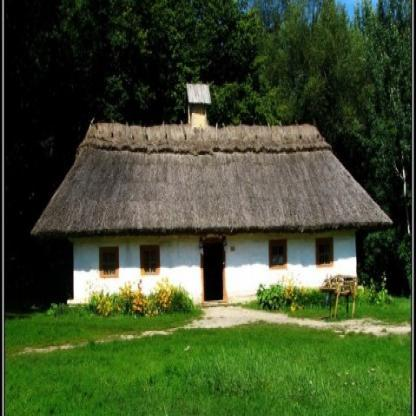Building Outline: (30, 84, 394, 306)
Dont: (255, 272, 360, 320), (83, 276, 199, 318)
Door: (203, 245, 223, 302)
Facade: (73, 228, 356, 306)
Ground Floor: (73, 228, 356, 306)
Roof: (30, 121, 394, 236)
Window: (140, 246, 161, 276), (99, 246, 118, 278), (316, 237, 334, 268), (269, 239, 287, 269)
